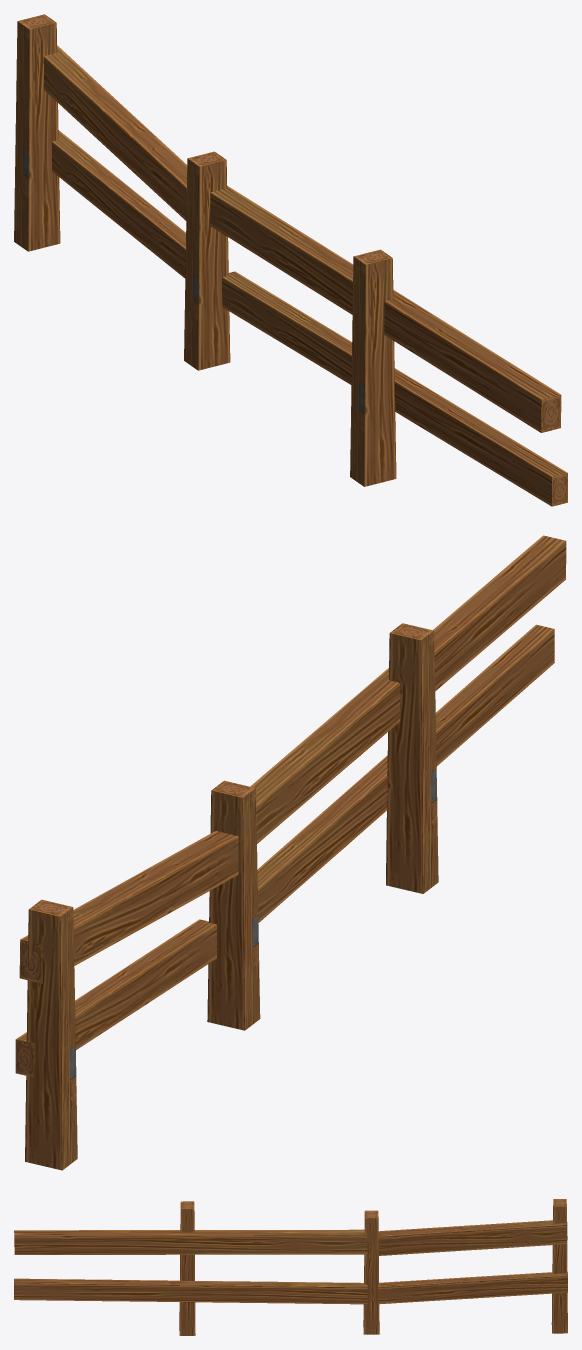
The picture shows the model from 3 angles, top to bottom: view 1: azimuth 30°, elevation 25°; view 2: azimuth 150°, elevation 25°; view 3: azimuth 270°, elevation 25°; orthographic projection. The views are drawn at different scales.
Visible parts, largest first — view 1: Cube.2139; view 2: Cube.2139; view 3: Cube.2139.
Part boxes in pixels (box(x1,y1,x2,y2)): Cube.2139: box(14, 14, 567, 506); Cube.2139: box(15, 535, 566, 1170); Cube.2139: box(14, 1199, 567, 1335).
Bounding box in the file's own units: 43.6 × 132 × 525.
Materials: 1 (1 with a texture image).
